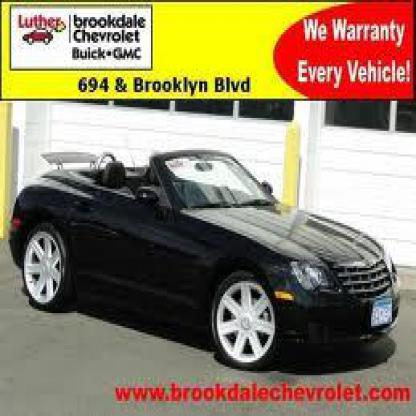Vehicle: (11, 148, 402, 377)
